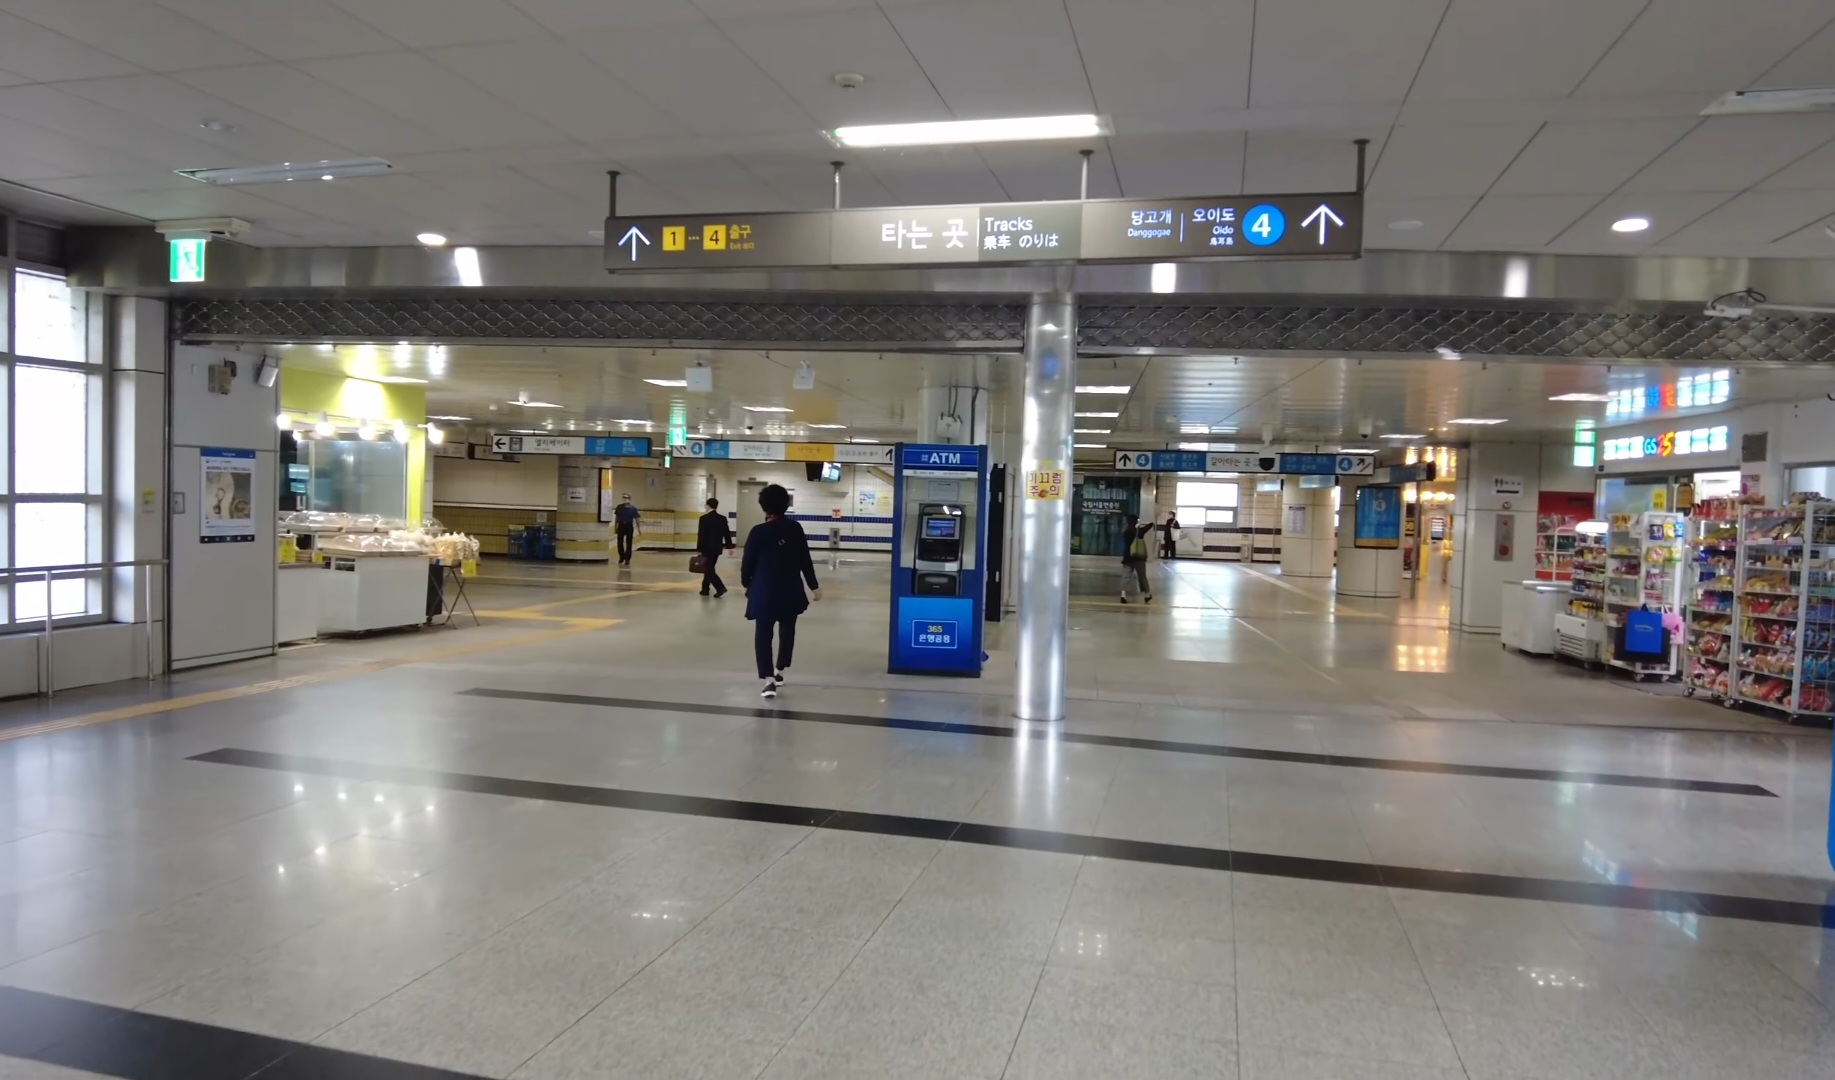signBoard: (599, 180, 1378, 267)
